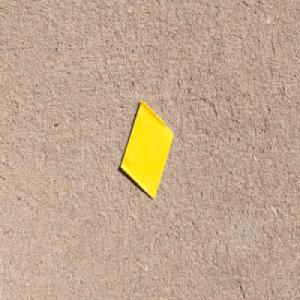PlasticPart: (118, 97, 174, 201)
